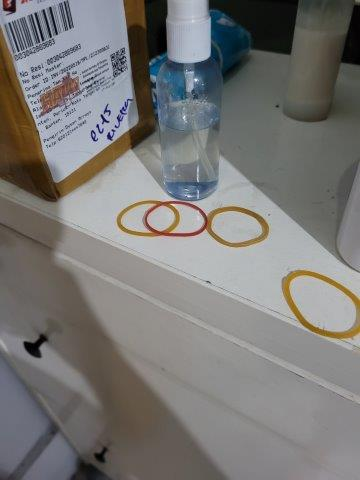karet: (281, 270, 360, 338), (206, 208, 269, 247), (145, 199, 208, 237), (115, 202, 181, 237)
